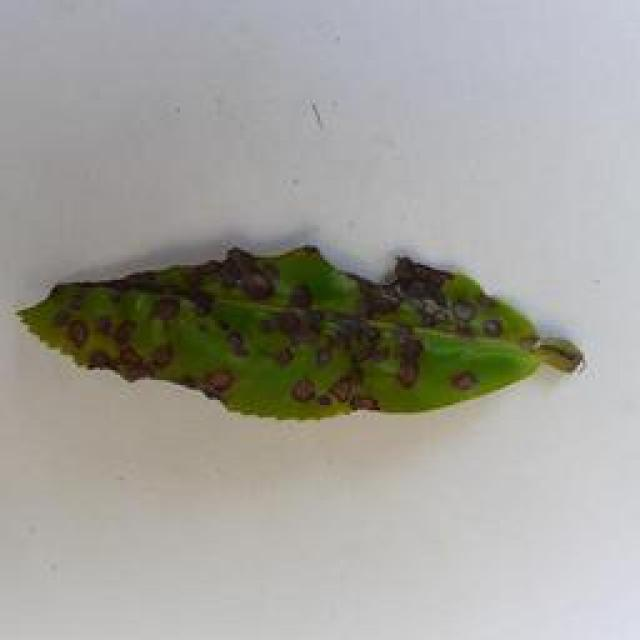Helopeltis: (16, 232, 597, 444)
